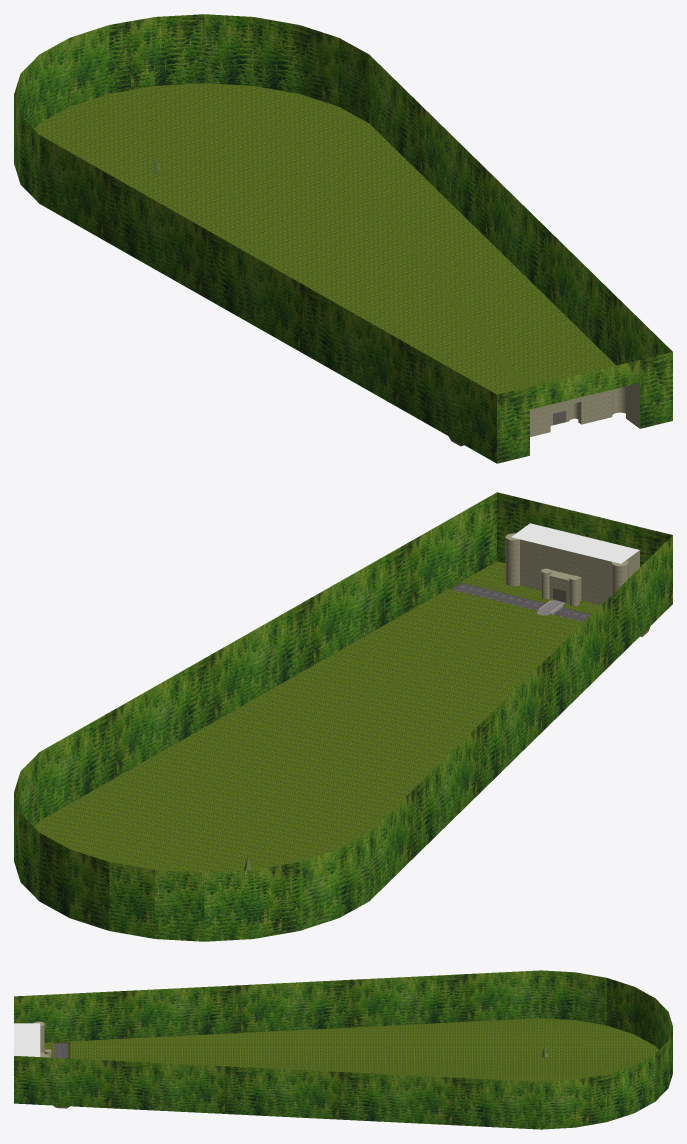
Rendered from okolje.obj.
3 views of the same model, one above another, from view 1: azimuth 30°, elevation 25°; view 2: azimuth 150°, elevation 25°; view 3: azimuth 270°, elevation 25° (orthographic). The views are drawn at different scales.
Parts seen in each view (by area): view 1: okolje_Main-Material3, okolje_Main-Material2, okolje_Main-Stone_Coursed_Rough; view 2: okolje_Main-Material3, okolje_Main-Material2, okolje_Main-Stone_Coursed_Rough, okolje_Main-Default_Material, okolje_Main-Material9, okolje_Main-Groundcover_RiverRock_4inch; view 3: okolje_Main-Material3, okolje_Main-Material2, okolje_Main-Default_Material.
Boxes of the visible parts, <box> form: okolje_Main-Material3: <box>14,14,672,463</box>; okolje_Main-Material2: <box>34,83,615,445</box>; okolje_Main-Stone_Coursed_Rough: <box>530,383,639,436</box>; okolje_Main-Material3: <box>14,492,672,941</box>; okolje_Main-Material2: <box>34,561,650,872</box>; okolje_Main-Stone_Coursed_Rough: <box>505,533,639,606</box>; okolje_Main-Default_Material: <box>511,523,639,563</box>; okolje_Main-Material9: <box>451,583,591,621</box>; okolje_Main-Groundcover_RiverRock_4inch: <box>452,583,649,637</box>; okolje_Main-Material3: <box>14,970,672,1129</box>; okolje_Main-Material2: <box>44,1018,658,1107</box>; okolje_Main-Default_Material: <box>14,1023,40,1056</box>.
Bounding box in the file's own units: 150 × 31.5 × 375.
